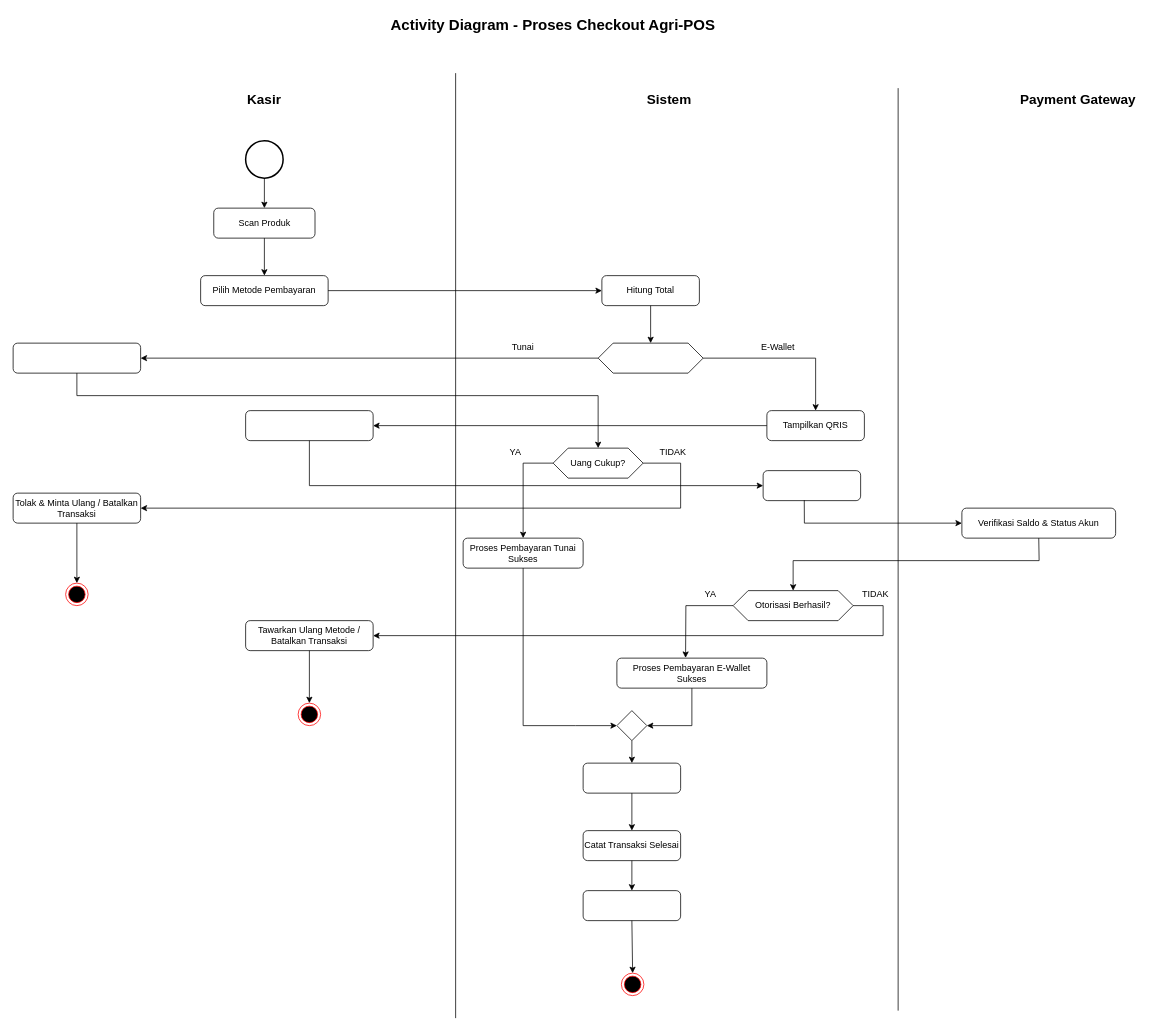
The diagram is 1159 pixels wide and 1032 high, and some of its shapes have lost their labels. Each missing label, with the centre of its shape:
"Cetak Struk" goes at [631,905].
"Input Nominal Pembayaran" goes at [76,357].
"Kirim Permintaan Otorisasi" goes at [811,485].
"Lakukan Pembayaran di Aplikasi E-Wallet" goes at [309,425].
"Metode Pembayaran?" goes at [650,357].
"Update Stok Produk" goes at [631,777].
